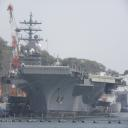Portanaves: (10, 12, 126, 120)
